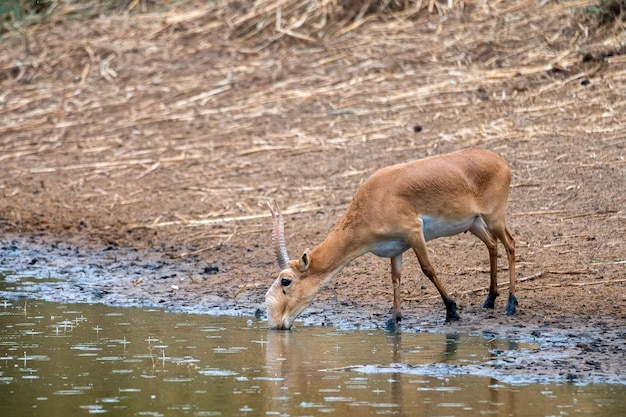saiga: (252, 145, 536, 334)
